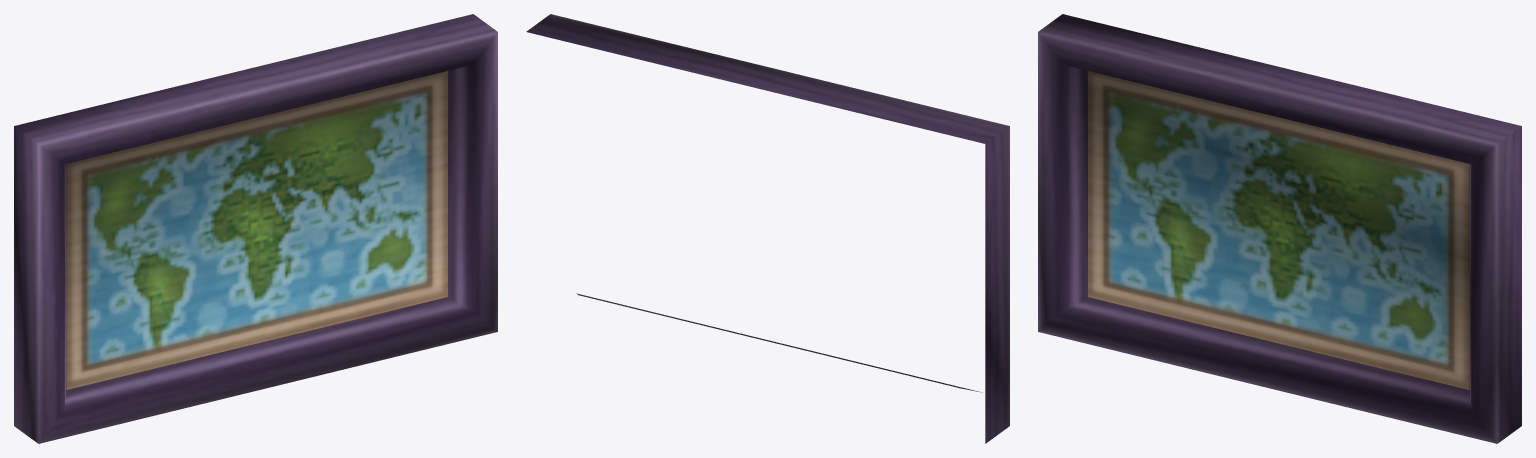
The model's file is a_SWIframe03.glb.
3 views of the same model, side by side, from view 1: azimuth 30°, elevation 25°; view 2: azimuth 150°, elevation 25°; view 3: azimuth 330°, elevation 25° (orthographic).
Visible parts, largest first — view 1: a_SWIframe03; view 2: a_SWIframe03; view 3: a_SWIframe03.
Part boxes in pixels (left/top/right/bottom): a_SWIframe03: left=14, top=14, right=497, bottom=443; a_SWIframe03: left=526, top=14, right=1009, bottom=443; a_SWIframe03: left=1038, top=14, right=1521, bottom=443.
Bounding box in the file's own units: 1.6 × 1 × 0.1483.
Materials: 1 (1 with a texture image).
